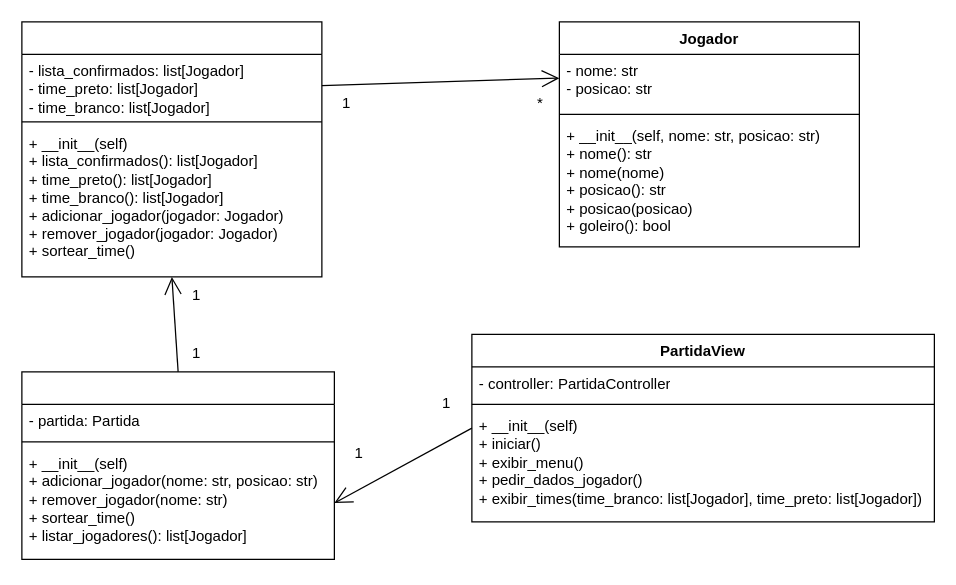
The diagram is 956 pixels wide and 585 high, and some of its shapes have lost their labels. The box of each missing label's shape, as (x1, y1, x2, y2) in pixels:
Partida: (21, 21, 322, 277)
PartidaController: (21, 371, 334, 559)
